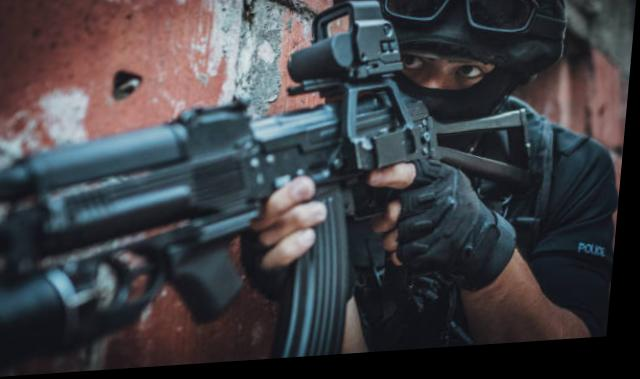other: (281, 0, 622, 356)
